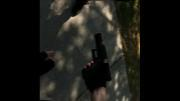gun: (81, 32, 112, 82)
